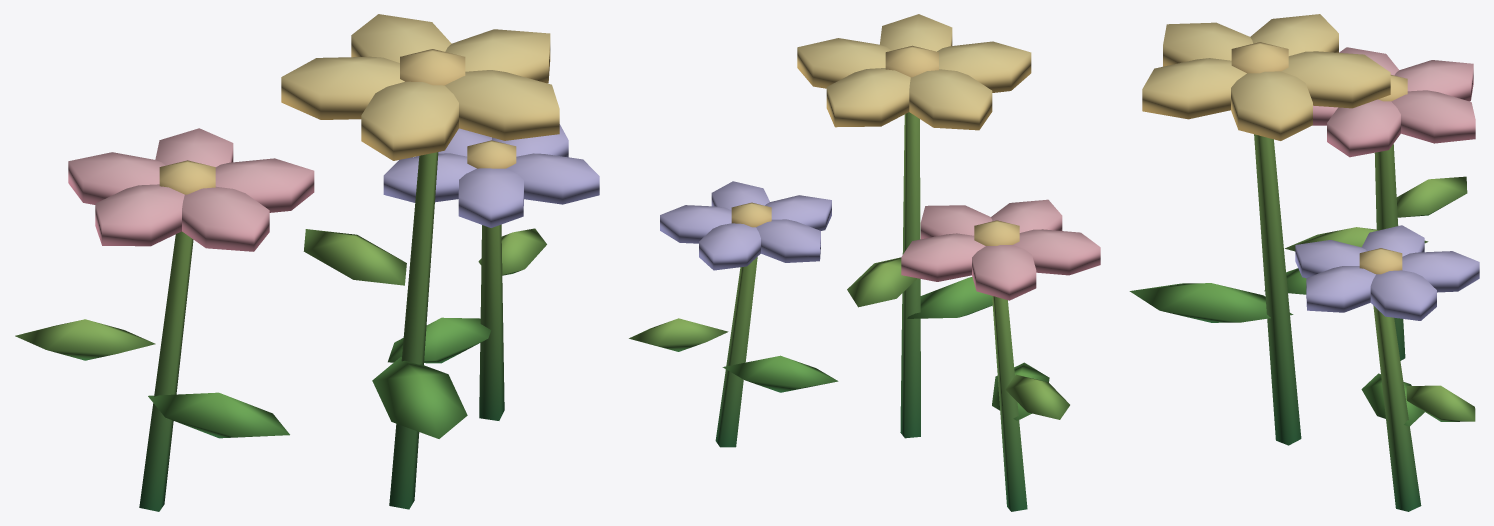
Rendered from Origin_Bloom_Cluster_LOD1.glb.
3 renders of one model, left to right at view 1: azimuth 30°, elevation 25°; view 2: azimuth 150°, elevation 25°; view 3: azimuth 270°, elevation 25°, orthographic. The views are drawn at different scales.
Visible parts, largest first — view 1: Origin_Bloom_Cluster_LOD1; view 2: Origin_Bloom_Cluster_LOD1; view 3: Origin_Bloom_Cluster_LOD1.
Part boxes in pixels (<box>): Origin_Bloom_Cluster_LOD1: <box>15,14,599,511</box>; Origin_Bloom_Cluster_LOD1: <box>629,14,1100,511</box>; Origin_Bloom_Cluster_LOD1: <box>1129,14,1479,511</box>.
Size of the model in its own units: 0.6624 by 0.5561 by 0.438.
